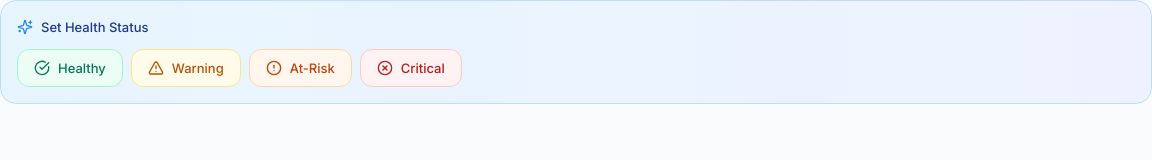
Test: InlineEnrichmentPrompt › Display Logic › 4. shows compact display after selection
The width and height of the screenshot is (1152, 160).
Click the button "Healthy" at (70, 68), box [17,49,123,87]
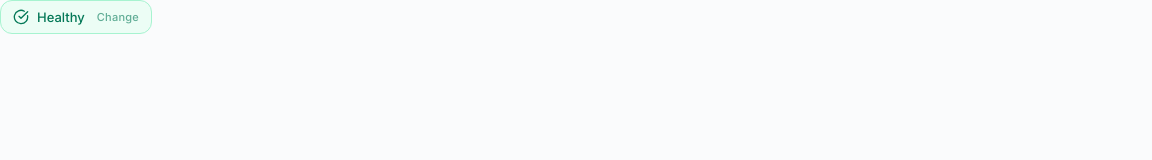
Check: the text "Healthy" is shown, box [37,7,85,27]
Check: the button "Change" is shown, box [97,9,139,25]
